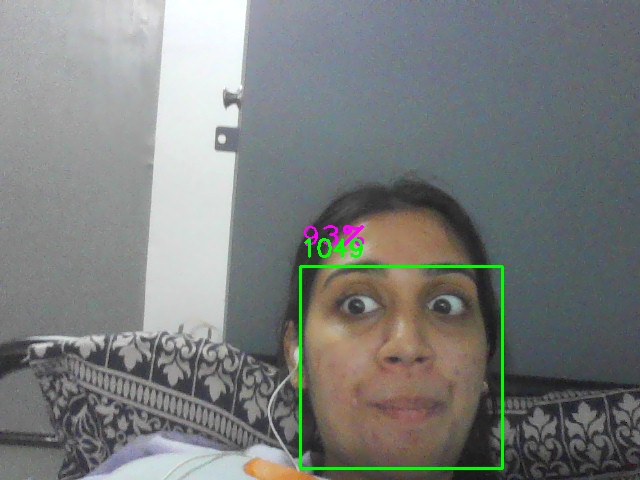real: (300, 266, 503, 469)
